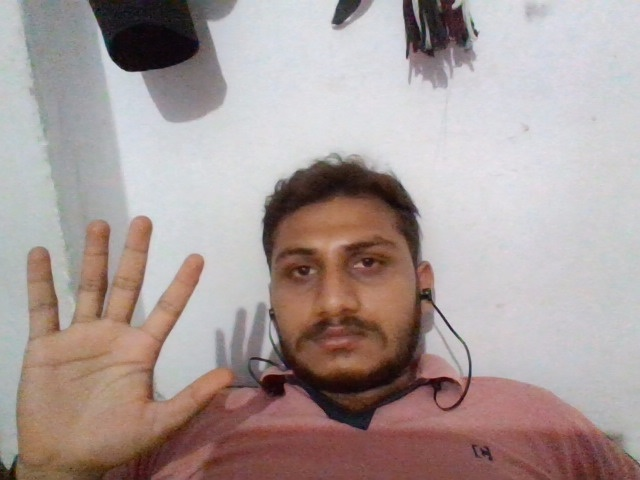Hello: (10, 193, 258, 479)
